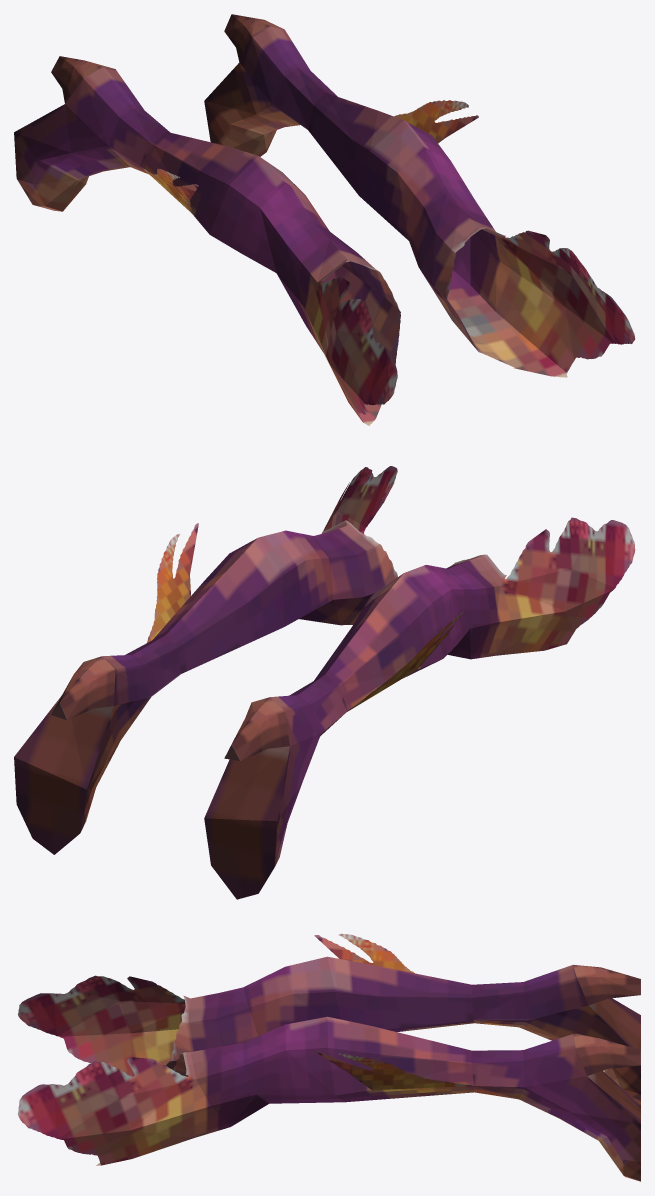
Rendered from dancer_shoe_female_81580.obj.
3 views of the same model, one above another, from view 1: azimuth 30°, elevation 25°; view 2: azimuth 150°, elevation 25°; view 3: azimuth 270°, elevation 25° (orthographic). The views are drawn at different scales.
Parts seen in each view (by area): view 1: dancer_shoe_female_81580; view 2: dancer_shoe_female_81580; view 3: dancer_shoe_female_81580.
Part boxes in pixels (left/top/right/bottom): dancer_shoe_female_81580: left=14, top=14, right=635, bottom=425; dancer_shoe_female_81580: left=14, top=466, right=635, bottom=899; dancer_shoe_female_81580: left=17, top=933, right=640, bottom=1181.
Bounding box in the file's own units: 20.91 × 12.41 × 44.78.
Materials: 2 (2 with a texture image).
